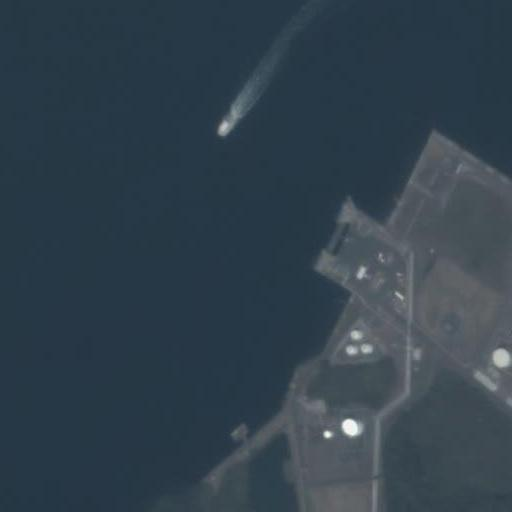person: (217, 120, 229, 137)
